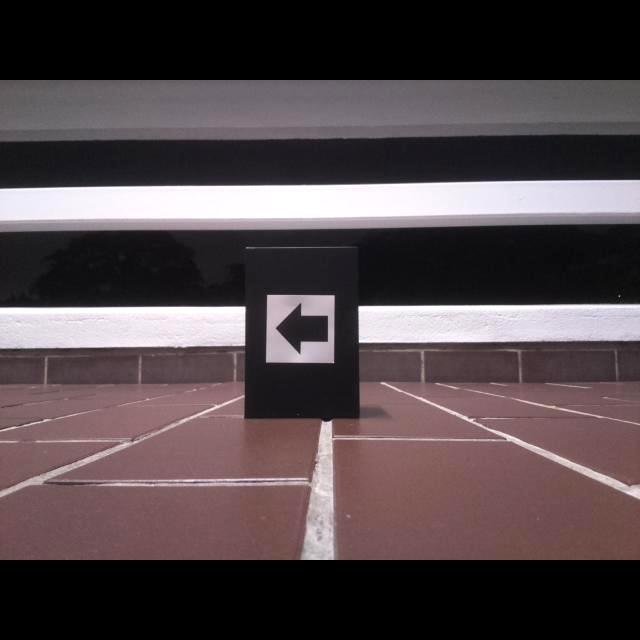LEFT: (274, 301, 328, 356)
